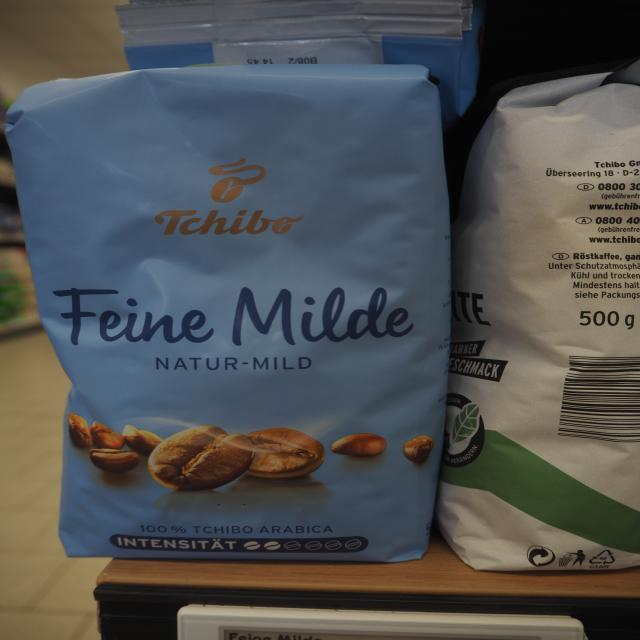BW Bohne: (448, 65, 640, 574)
FM Bohne: (0, 61, 461, 568)
